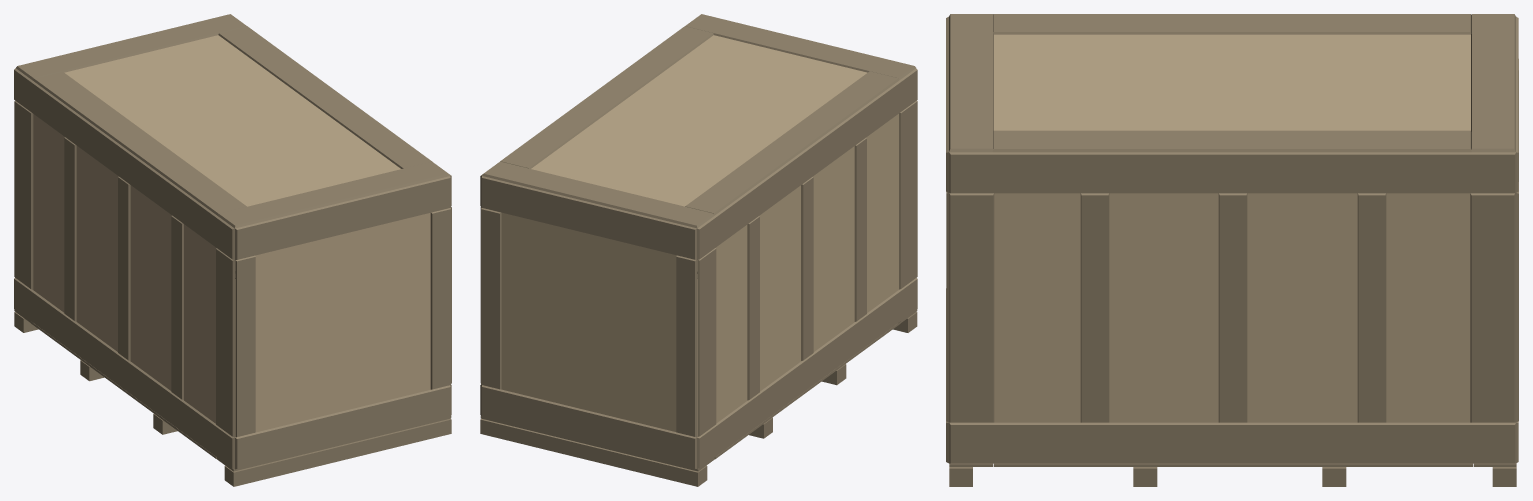
File: SM_Big_Box_03.fbx
The picture shows the model from 3 angles, left to right: view 1: azimuth 30°, elevation 25°; view 2: azimuth 150°, elevation 25°; view 3: azimuth 270°, elevation 25°; orthographic projection. The views are drawn at different scales.
Parts seen in each view (by area): view 1: SM_Big_Box_03; view 2: SM_Big_Box_03; view 3: SM_Big_Box_03.
Part boxes in pixels (x1,y1,x2,y2): SM_Big_Box_03: (14,14,451,486); SM_Big_Box_03: (480,14,917,486); SM_Big_Box_03: (946,14,1518,486).
Size of the model in its own units: 146 by 165 by 255.
